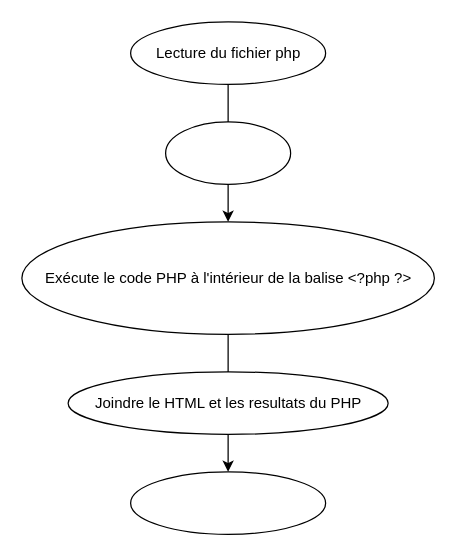
This 456x556 diagram has some shape labels left out. Each missing label, with the centre of its shape:
"Ignore le HTML" belongs at (227,152).
"Produit un affichage final" belongs at (227,502).
